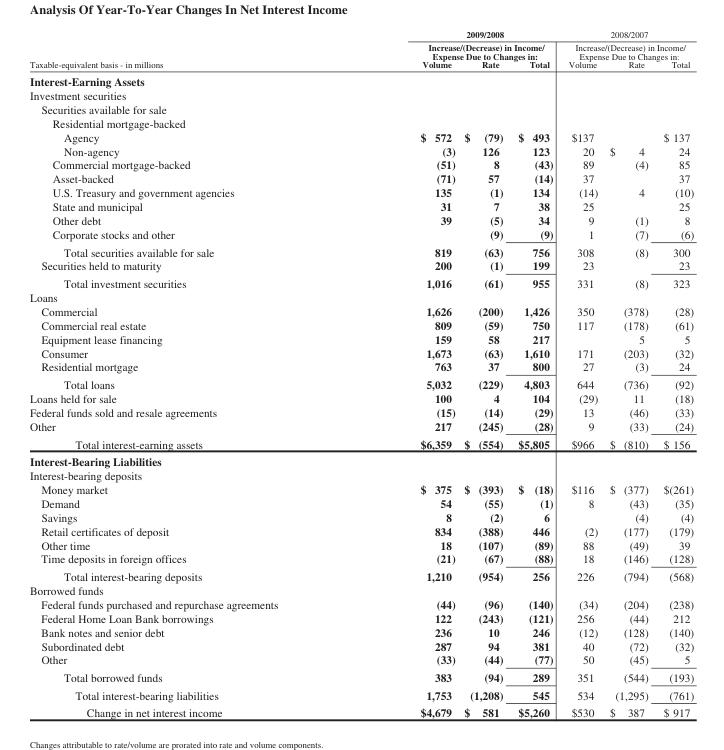table: (29, 28, 693, 718)
table column: (29, 28, 348, 718), (348, 28, 459, 718), (603, 28, 655, 718), (459, 28, 510, 718), (510, 28, 560, 718), (560, 28, 603, 718), (655, 28, 693, 718)
table column header: (29, 28, 693, 71)
table projected row header: (29, 71, 693, 88), (29, 452, 693, 468), (29, 88, 693, 102), (29, 115, 693, 129), (29, 102, 693, 115), (29, 290, 693, 303), (29, 468, 693, 481), (29, 583, 693, 596)
table row: (29, 28, 693, 59), (29, 434, 693, 452), (29, 685, 693, 703), (29, 71, 693, 88), (29, 668, 693, 685), (29, 226, 693, 242), (29, 242, 693, 258), (29, 258, 693, 274), (29, 274, 693, 290), (29, 359, 693, 375), (29, 375, 693, 391), (29, 418, 693, 434), (29, 452, 693, 468), (29, 551, 693, 567), (29, 567, 693, 583), (29, 652, 693, 668), (29, 703, 693, 718), (29, 88, 693, 102), (29, 115, 693, 129), (29, 129, 693, 143), (29, 143, 693, 157), (29, 157, 693, 171), (29, 171, 693, 185), (29, 185, 693, 199), (29, 199, 693, 213), (29, 303, 693, 317), (29, 317, 693, 331), (29, 331, 693, 345), (29, 345, 693, 359), (29, 404, 693, 418), (29, 481, 693, 495), (29, 495, 693, 509), (29, 509, 693, 523), (29, 523, 693, 537), (29, 537, 693, 551), (29, 596, 693, 610), (29, 610, 693, 624), (29, 624, 693, 638), (29, 638, 693, 652), (29, 102, 693, 115), (29, 213, 693, 226), (29, 290, 693, 303), (29, 391, 693, 404), (29, 468, 693, 481), (29, 583, 693, 596), (29, 59, 693, 71)
table spanning cell: (29, 28, 348, 71), (348, 28, 560, 59), (560, 28, 693, 59)
